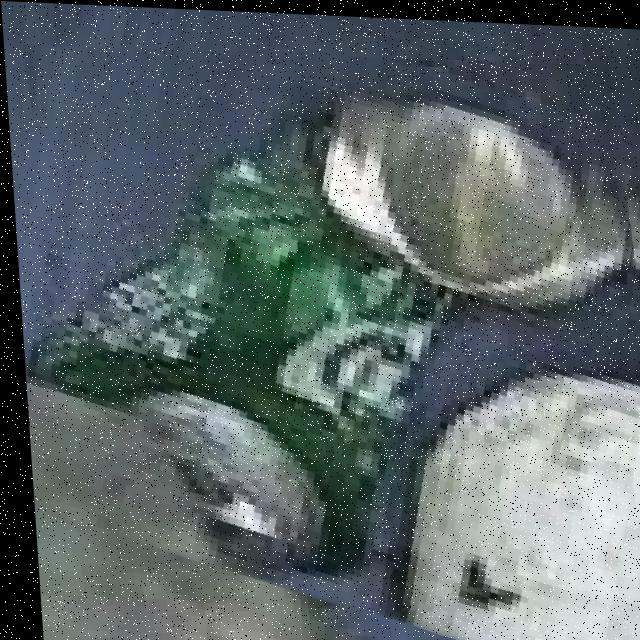can: (19, 50, 637, 604)
